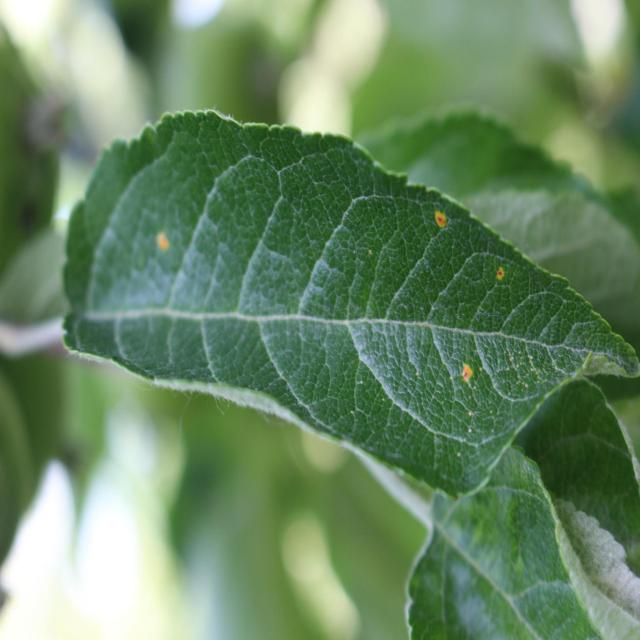Rust: (152, 224, 172, 265), (432, 200, 453, 238), (460, 358, 481, 385), (488, 263, 508, 288)
